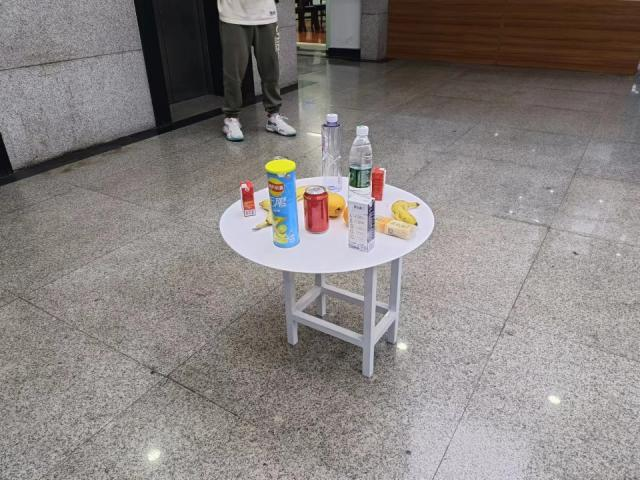Canned_drinks: (304, 185, 329, 234)
bottle: (319, 112, 345, 192), (348, 125, 372, 202)
cylinder: (266, 158, 300, 248)
drink_box: (348, 196, 376, 253), (240, 181, 256, 216), (372, 166, 387, 202)
